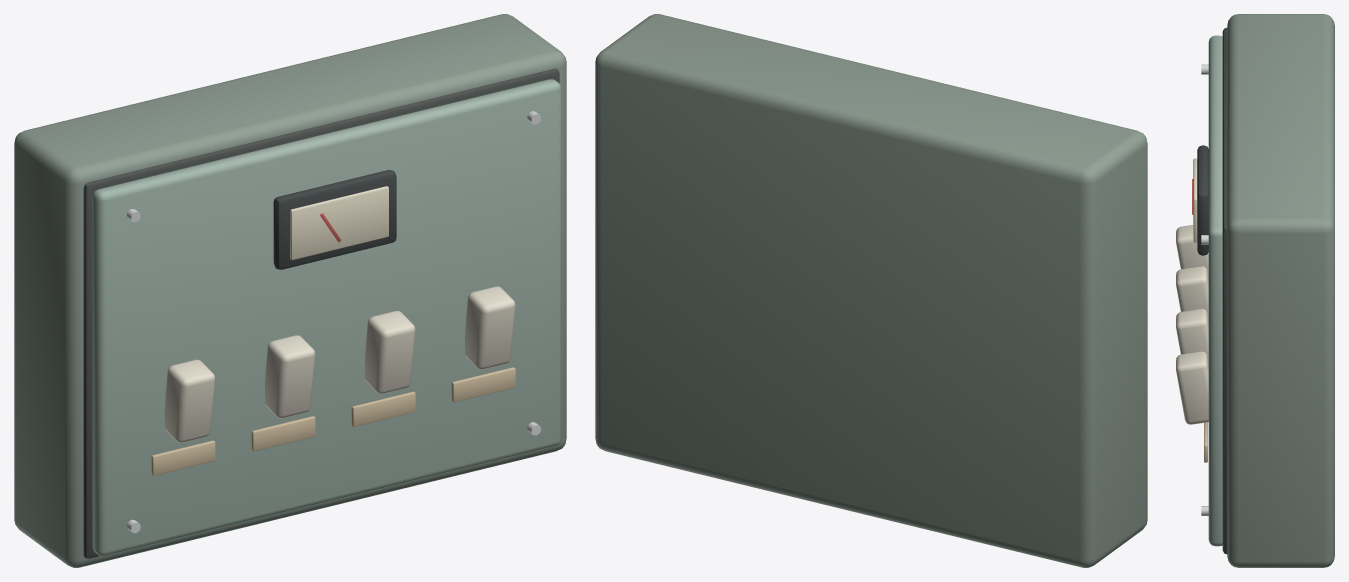
File: CTCC_PROP_ServiceLoadPanel.fbx
The picture shows the model from 3 angles, left to right: view 1: azimuth 30°, elevation 25°; view 2: azimuth 150°, elevation 25°; view 3: azimuth 270°, elevation 25°; orthographic projection. The views are drawn at different scales.
Visible parts, largest first — view 1: CTCC_PROP_ServiceLoadPanel_LOD0; view 2: CTCC_PROP_ServiceLoadPanel_LOD0; view 3: CTCC_PROP_ServiceLoadPanel_LOD0.
Boxes of the visible parts, x1=… form: CTCC_PROP_ServiceLoadPanel_LOD0: x1=14, y1=14, x2=566, y2=567; CTCC_PROP_ServiceLoadPanel_LOD0: x1=595, y1=14, x2=1147, y2=567; CTCC_PROP_ServiceLoadPanel_LOD0: x1=1176, y1=14, x2=1334, y2=567.
Size of what is drawn, in the model's own units: 1.1 by 0.84 by 0.3467.
